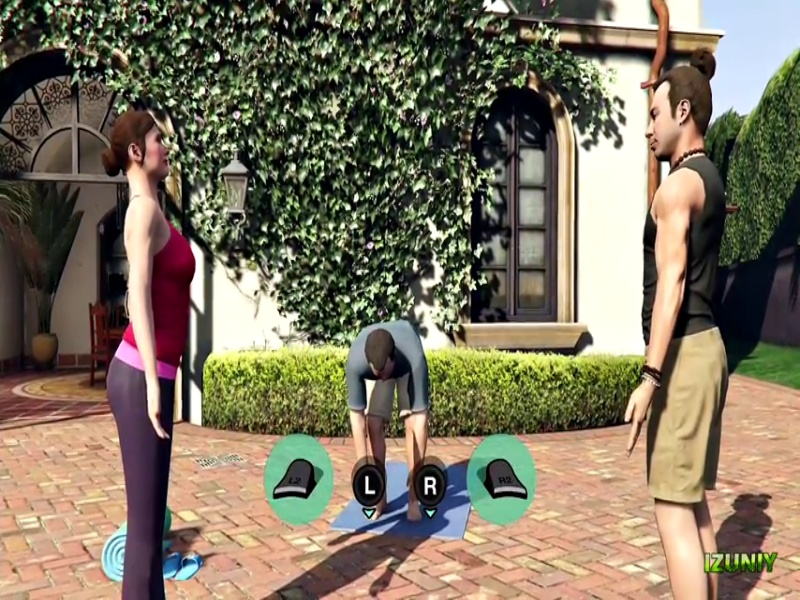human: (96, 112, 196, 600)
